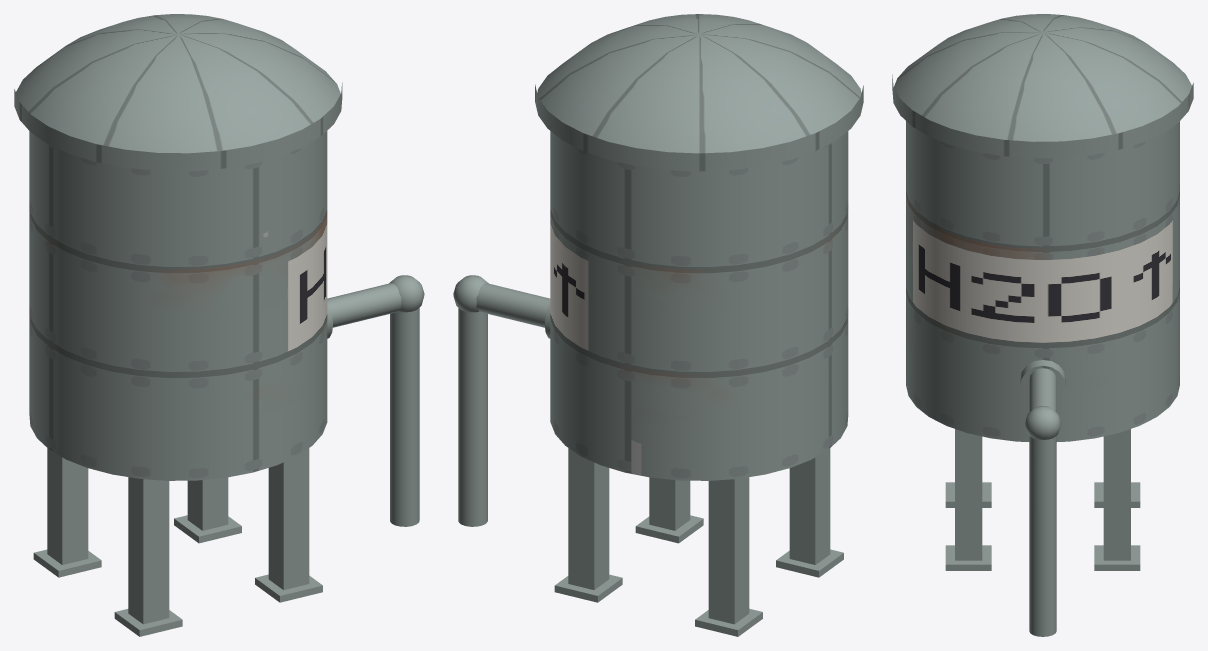
The model's file is water_tank.gltf.
3 renders of one model, left to right at view 1: azimuth 30°, elevation 25°; view 2: azimuth 150°, elevation 25°; view 3: azimuth 270°, elevation 25°, orthographic. The views are drawn at different scales.
Visible parts, largest first — view 1: tank_body, tank_lid, tank_pipe, tank_leg_1, tank_leg_0, tank_leg_2, tank_leg_3; view 2: tank_body, tank_lid, tank_pipe, tank_leg_2, tank_leg_3, tank_leg_1, tank_leg_0; view 3: tank_body, tank_lid, tank_pipe, tank_leg_0, tank_leg_3, tank_leg_1, tank_leg_2.
Boxes of the visible parts, box(x1,y1,x2,y2) form: tank_body: box(29, 131, 327, 480); tank_lid: box(14, 14, 342, 171); tank_pipe: box(327, 275, 424, 526); tank_leg_1: box(114, 477, 182, 636); tank_leg_0: box(255, 448, 322, 602); tank_leg_2: box(33, 448, 101, 577); tank_leg_3: box(174, 477, 241, 543); tank_body: box(550, 131, 848, 480); tank_lid: box(535, 14, 863, 171); tank_pipe: box(453, 275, 550, 526); tank_leg_2: box(695, 477, 762, 636); tank_leg_3: box(554, 448, 622, 602); tank_leg_1: box(776, 448, 843, 577); tank_leg_0: box(635, 477, 703, 543); tank_body: box(906, 121, 1179, 441); tank_lid: box(892, 14, 1193, 158); tank_pipe: box(1020, 360, 1065, 636); tank_leg_0: box(945, 429, 991, 570); tank_leg_3: box(1094, 429, 1140, 570); tank_leg_1: box(945, 482, 991, 507); tank_leg_2: box(1094, 482, 1140, 507).
Bounding box in the file's own units: 1.79 × 2.4 × 1.32.
Materials: 1 (1 with a texture image).
